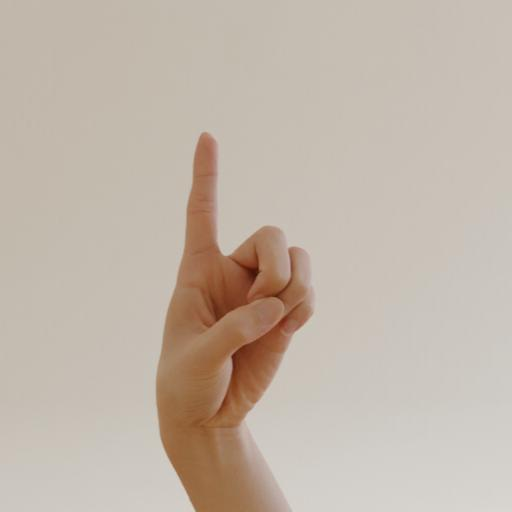D: (142, 116, 334, 463)
